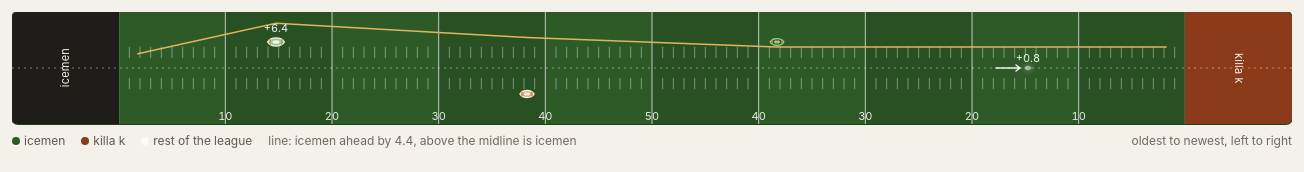
the drive chart › reads a play on hover and on keyboard focus
This screenshot has width=1304, height=172.
Hover over the 2nd button named "+3.0": {"x": 527, "y": 94} left=518, top=88, right=535, bottom=99
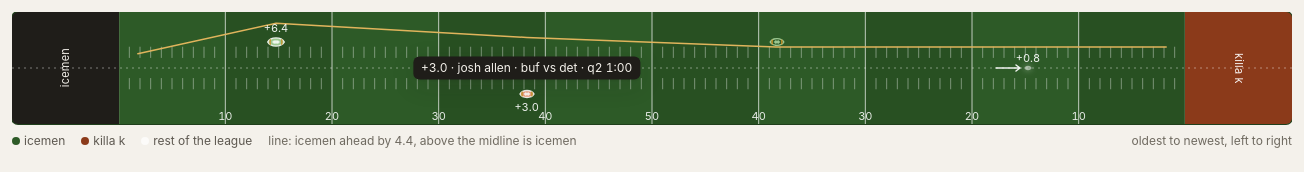
Expected: the element with class "dt-tip" shows "+3.0 · josh allen", left=421, top=60, right=632, bottom=75
Move the pointer off the button "+3.0", box left=518, top=88, right=535, bottom=99
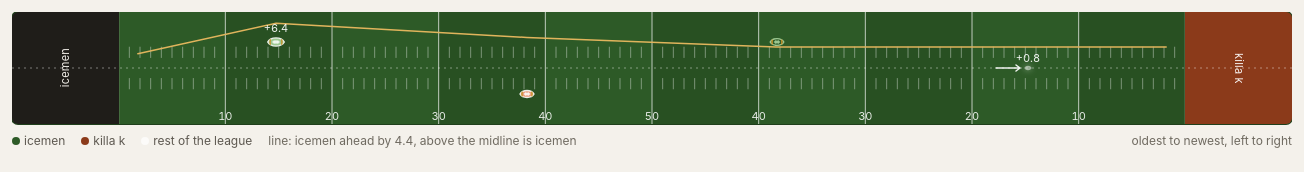
Expected: the element with class "dt-tip" is gone
Press Tab
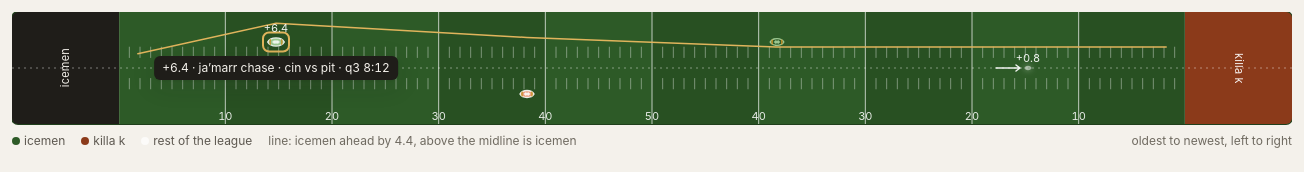
Expected: the element with class "dt-tip" shows "+6.4 · ja’marr chase", left=162, top=60, right=390, bottom=75
